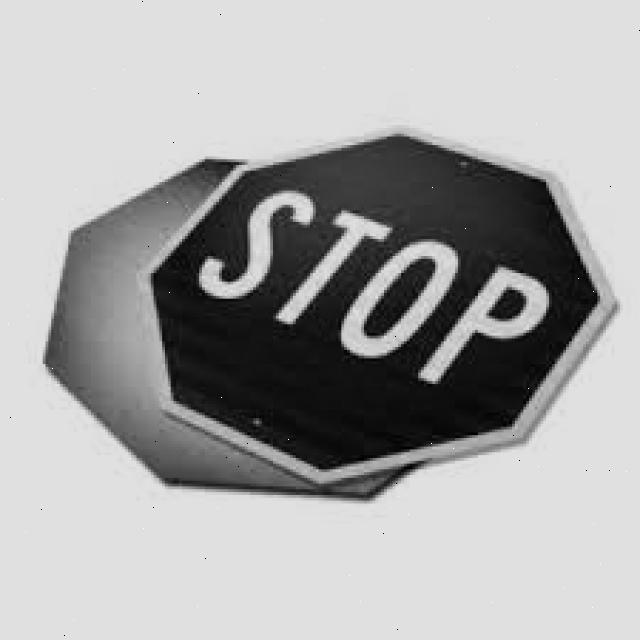stop sign: (139, 127, 620, 490)
